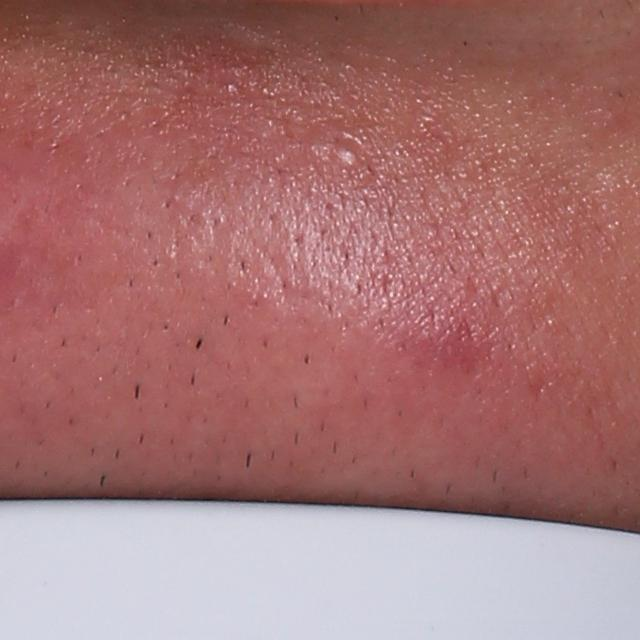pustule: (328, 138, 364, 170)
